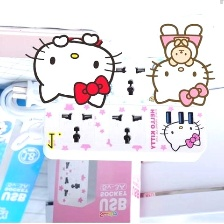book: (44, 115, 147, 224), (0, 81, 65, 224)
three_eye_plug: (38, 103, 207, 165), (103, 53, 161, 107)
